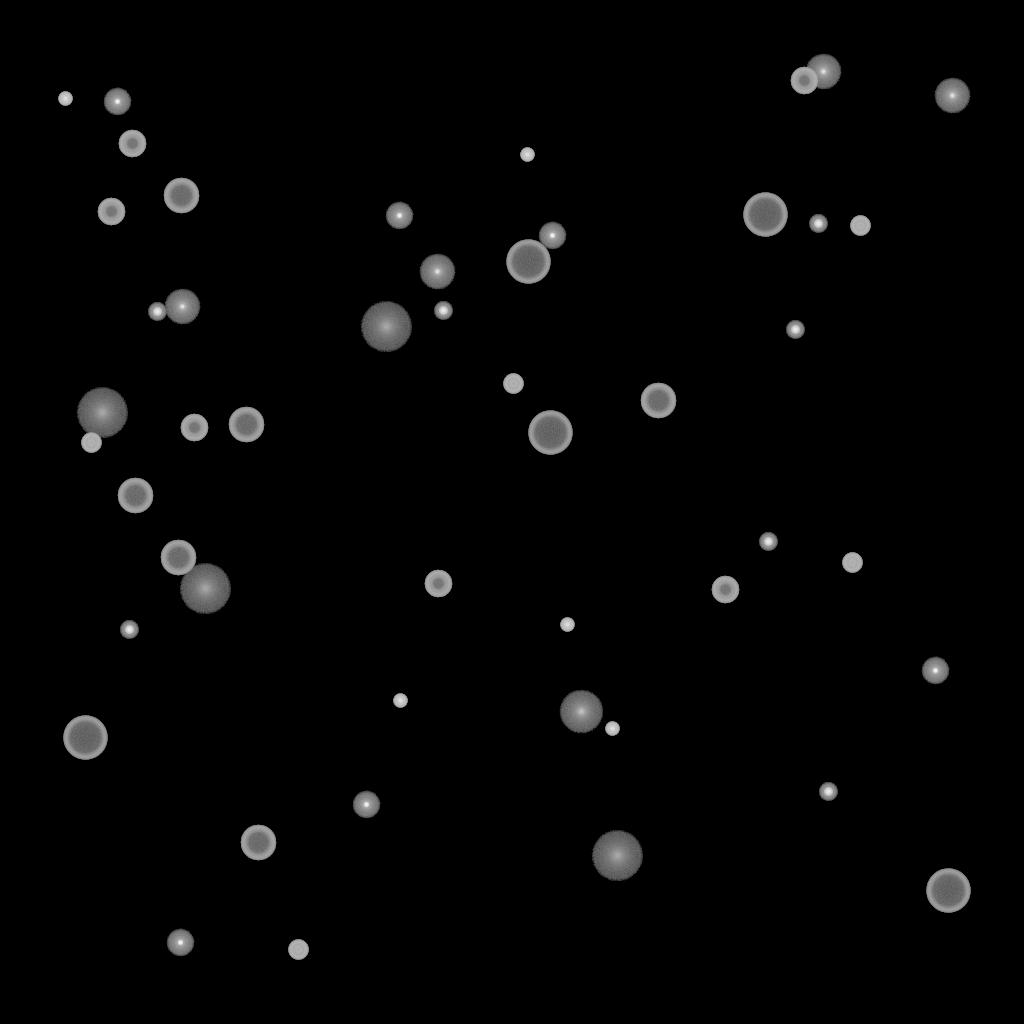depth:-10: (538, 222, 566, 250), (103, 88, 131, 116), (921, 657, 949, 685), (385, 202, 413, 230), (166, 929, 194, 957), (352, 791, 380, 819)
depth:-20: (148, 303, 166, 321), (120, 621, 138, 639), (434, 302, 452, 320), (786, 321, 804, 339), (809, 215, 827, 233), (759, 533, 777, 551), (819, 783, 837, 801)
depth:-30: (520, 148, 534, 162), (393, 694, 407, 708), (605, 722, 619, 736), (58, 92, 72, 106), (560, 618, 574, 632)
depth:-40: (842, 553, 862, 573), (850, 216, 870, 236), (81, 433, 101, 453), (503, 374, 523, 394), (288, 940, 308, 960)
depth:-50: (180, 414, 208, 442), (790, 67, 818, 95), (424, 570, 452, 598), (118, 130, 146, 158), (711, 576, 739, 604), (97, 198, 125, 226)
depth:-60: (163, 178, 199, 214), (228, 407, 264, 443), (117, 478, 153, 514), (640, 383, 676, 419), (240, 825, 276, 861), (160, 540, 196, 576)
depth:-70: (926, 869, 970, 913), (528, 411, 572, 455), (743, 193, 787, 237), (63, 716, 107, 760), (506, 240, 550, 284)
depth:0: (805, 54, 841, 90), (164, 289, 200, 325), (419, 254, 455, 290), (934, 78, 970, 114)
depth:10: (559, 690, 603, 734)
depth:20: (360, 302, 412, 352), (591, 831, 643, 881), (76, 388, 128, 438), (179, 564, 231, 614)
